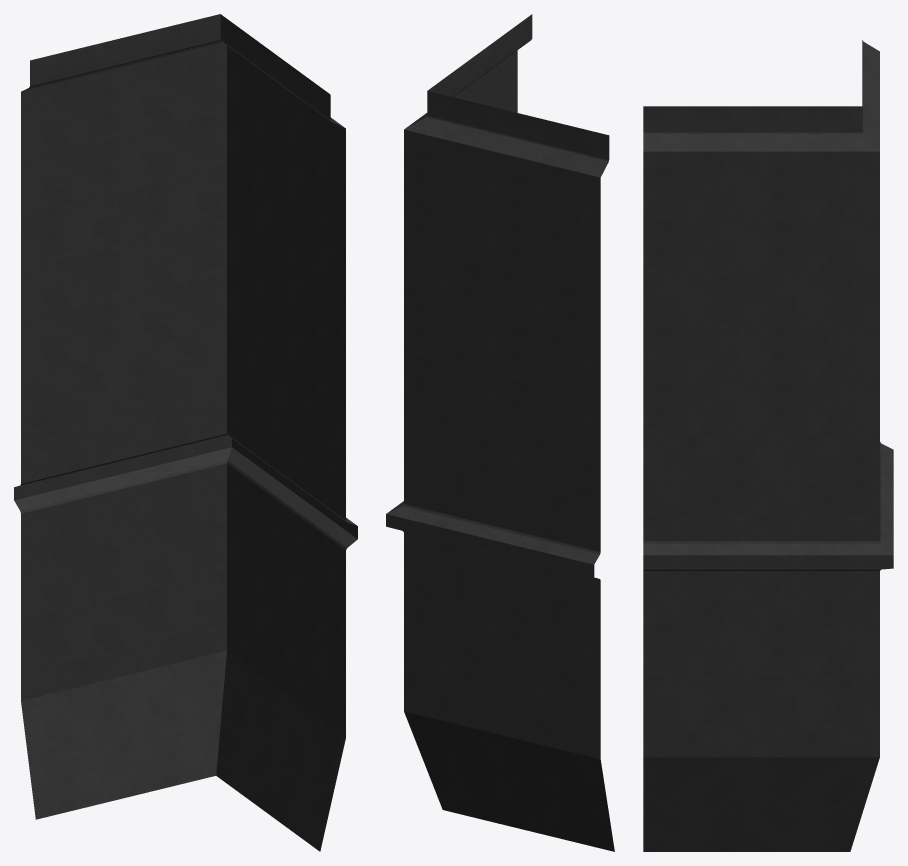
File: M_Wall_Concave_Corner_4x14_v2.fbx
3 renders of one model, left to right at view 1: azimuth 30°, elevation 25°; view 2: azimuth 150°, elevation 25°; view 3: azimuth 270°, elevation 25°, orthographic. The views are drawn at different scales.
Visible parts, largest first — view 1: Wall_Corner_Concave_4x14_v2; view 2: Wall_Corner_Concave_4x14_v2; view 3: Wall_Corner_Concave_4x14_v2.
Part boxes in pixels (bbox=[...]): Wall_Corner_Concave_4x14_v2: bbox=[14, 14, 357, 851]; Wall_Corner_Concave_4x14_v2: bbox=[386, 14, 614, 851]; Wall_Corner_Concave_4x14_v2: bbox=[643, 40, 893, 851].
Bounding box in the file's own units: 423 × 1400 × 423.
